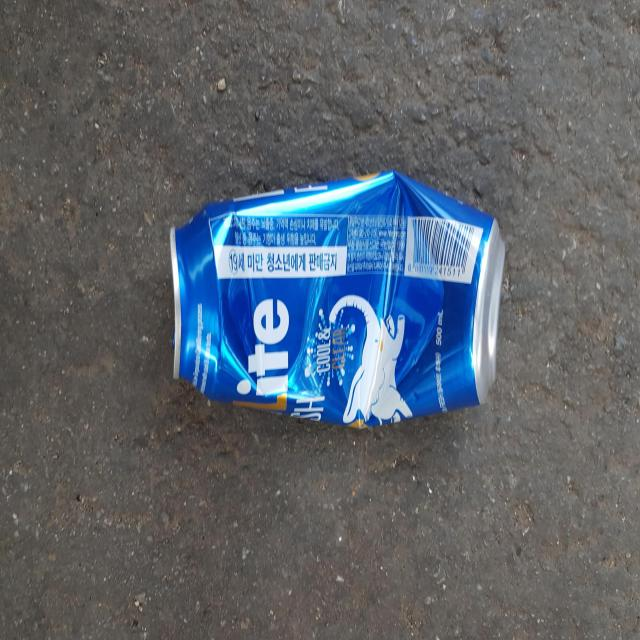can: (171, 171, 505, 427)
